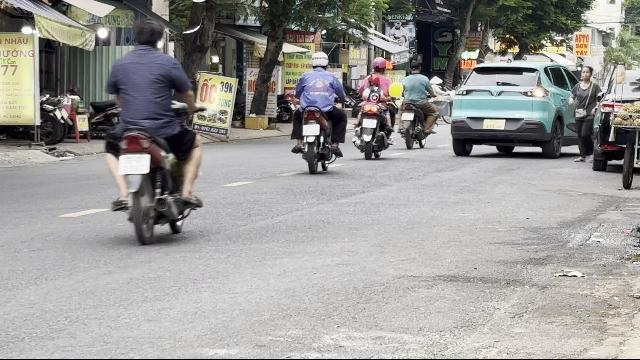helmet: (310, 51, 328, 69)
licenseplate: (119, 154, 149, 174), (302, 124, 320, 136)
motorcyclist: (96, 18, 206, 242), (287, 50, 347, 172)
nohelmet: (132, 19, 164, 48)
